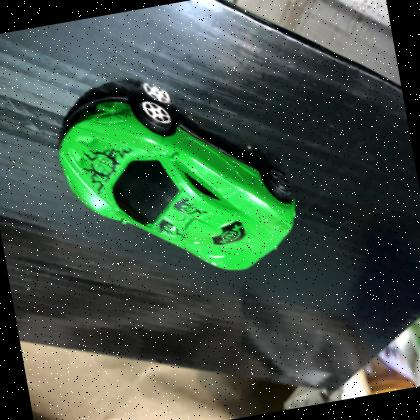Car: (57, 92, 297, 271)
